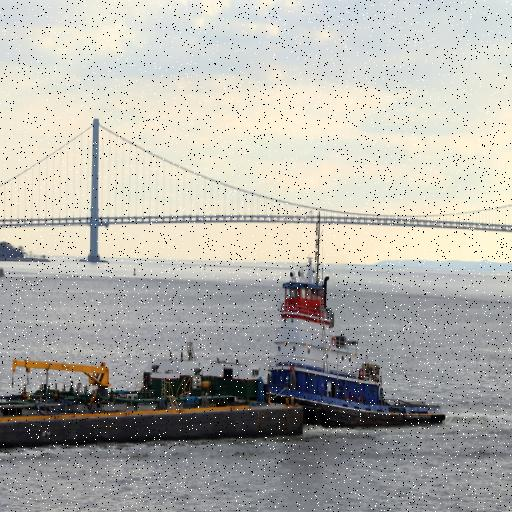tugboat: (252, 258, 453, 439)
